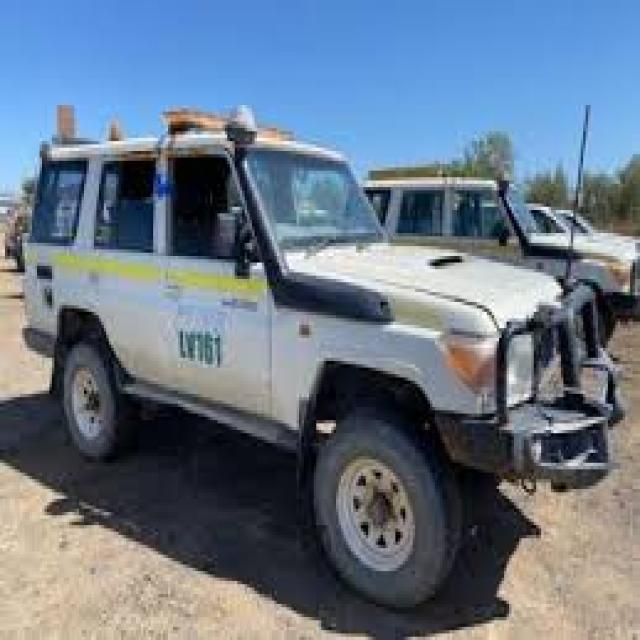light_vehicle: (10, 89, 625, 600)
